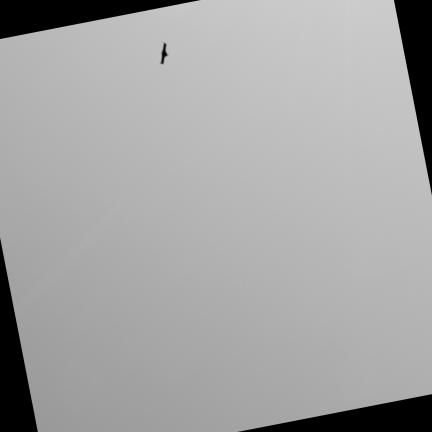Shahed: (160, 42, 168, 63)
